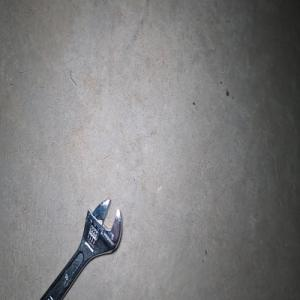Wrench: (39, 198, 121, 300)
